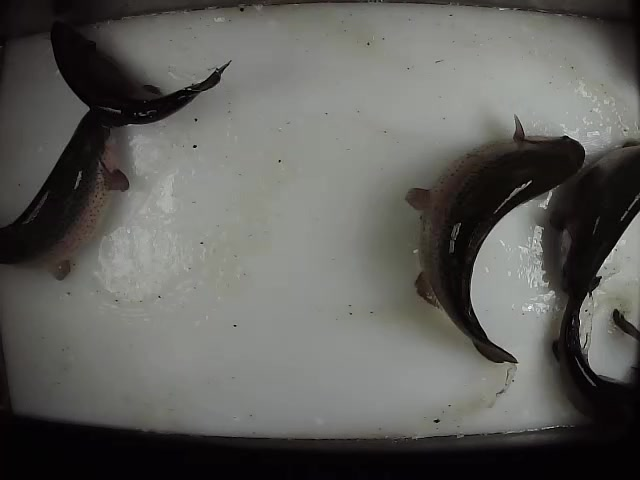fish: (403, 114, 586, 367), (1, 106, 132, 281), (49, 18, 233, 133), (554, 123, 640, 298), (552, 269, 640, 440)
